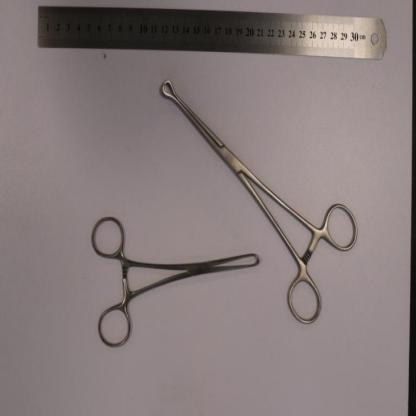8 Babcock Tissue Forceps: (161, 76, 360, 328)
Allis Tissue Forceps: (89, 210, 259, 351)
